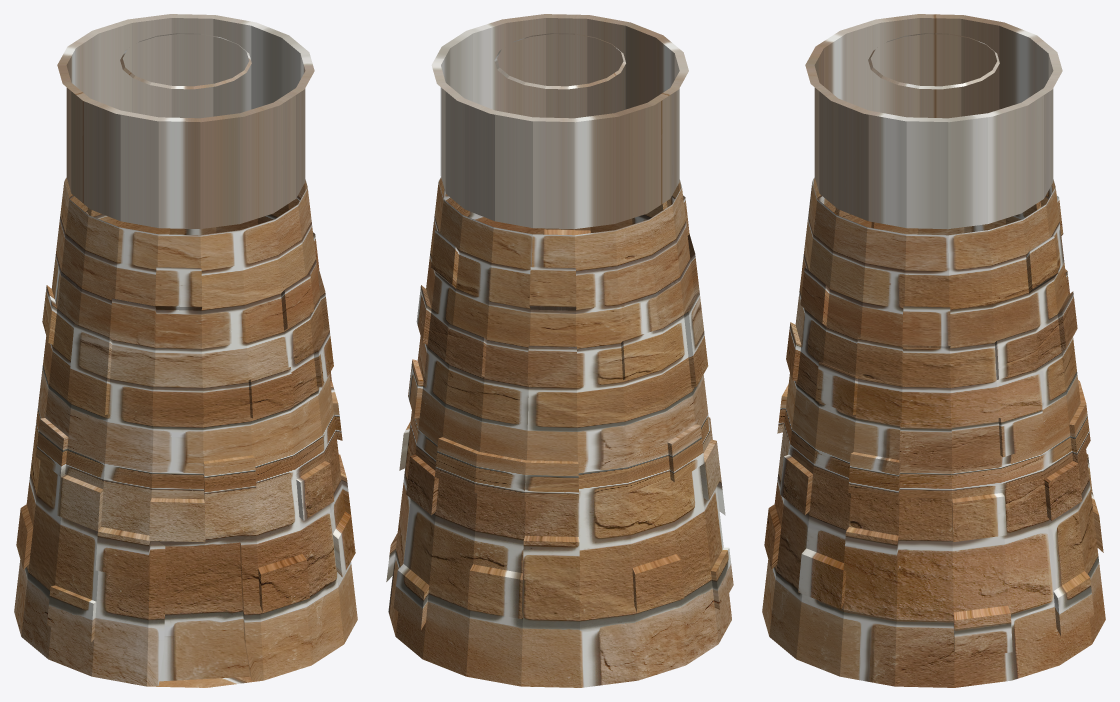
The model's file is cylinder.010_lev3.glb.
3 views of the same model, side by side, from view 1: azimuth 30°, elevation 25°; view 2: azimuth 150°, elevation 25°; view 3: azimuth 270°, elevation 25° (orthographic).
Visible parts, largest first — view 1: cylinder.010_lev3; view 2: cylinder.010_lev3; view 3: cylinder.010_lev3.
Part boxes in pixels (x1=…): cylinder.010_lev3: x1=14, y1=14, x2=357, y2=687; cylinder.010_lev3: x1=386, y1=14, x2=733, y2=687; cylinder.010_lev3: x1=762, y1=14, x2=1105, y2=687.
Size of the model in its own units: 2.48 by 4.41 by 2.47.
Materials: 1 (1 with a texture image).
